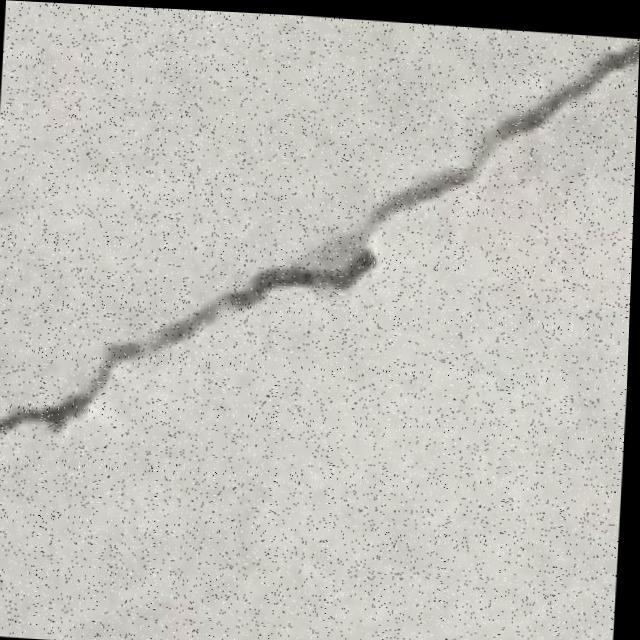Crack: (0, 0, 640, 493)
